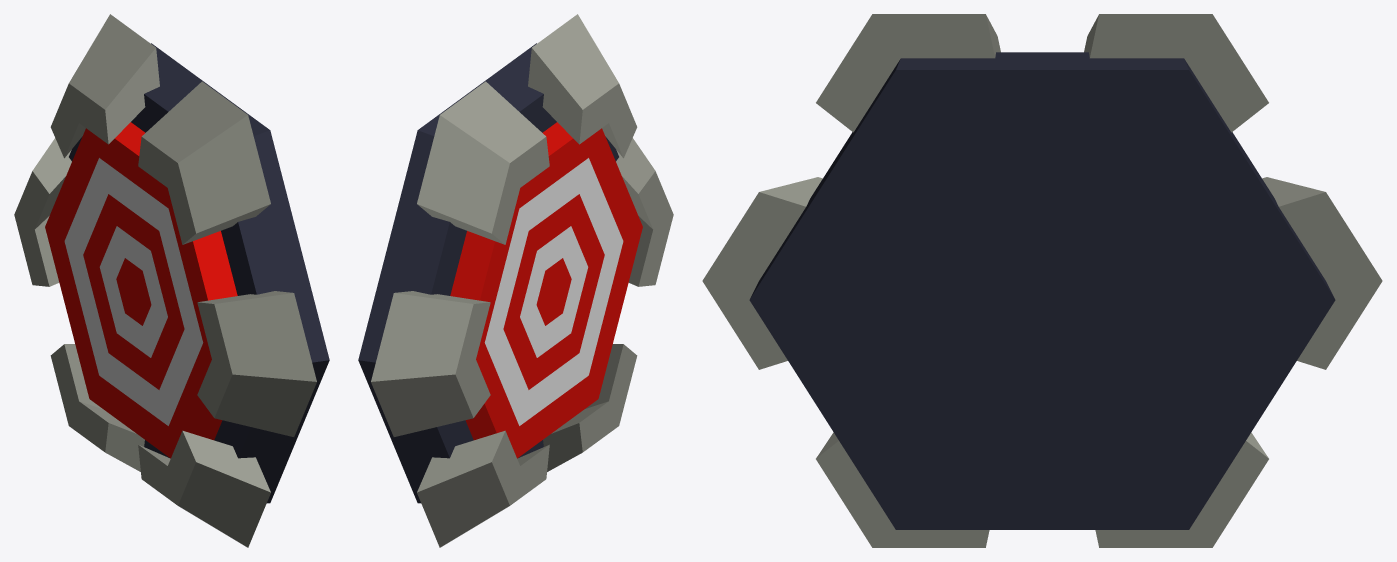
The model's file is lastertarget.obj.
3 views of the same model, side by side, from view 1: azimuth 30°, elevation 25°; view 2: azimuth 150°, elevation 25°; view 3: azimuth 270°, elevation 25° (orthographic). The views are drawn at different scales.
Parts seen in each view (by area): view 1: laser_target; view 2: laser_target; view 3: laser_target.
Part boxes in pixels (x1,y1,x2,y2): laser_target: [14, 14, 329, 547]; laser_target: [358, 14, 673, 547]; laser_target: [702, 14, 1382, 547].
Bounding box in the file's own units: 0.7032 × 3.32 × 3.84.
